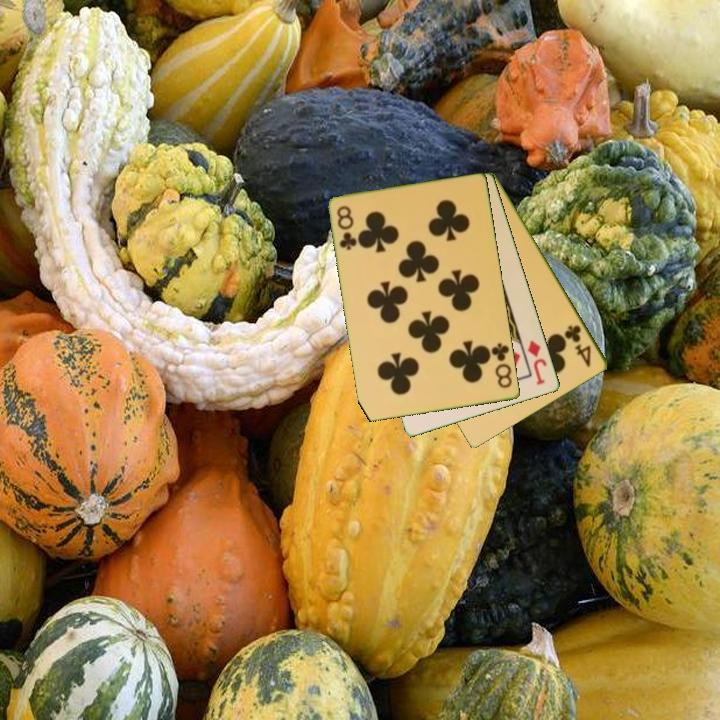4c: (561, 321, 595, 370)
8c: (486, 340, 515, 391), (334, 202, 360, 253)
Jd: (524, 337, 550, 388)
